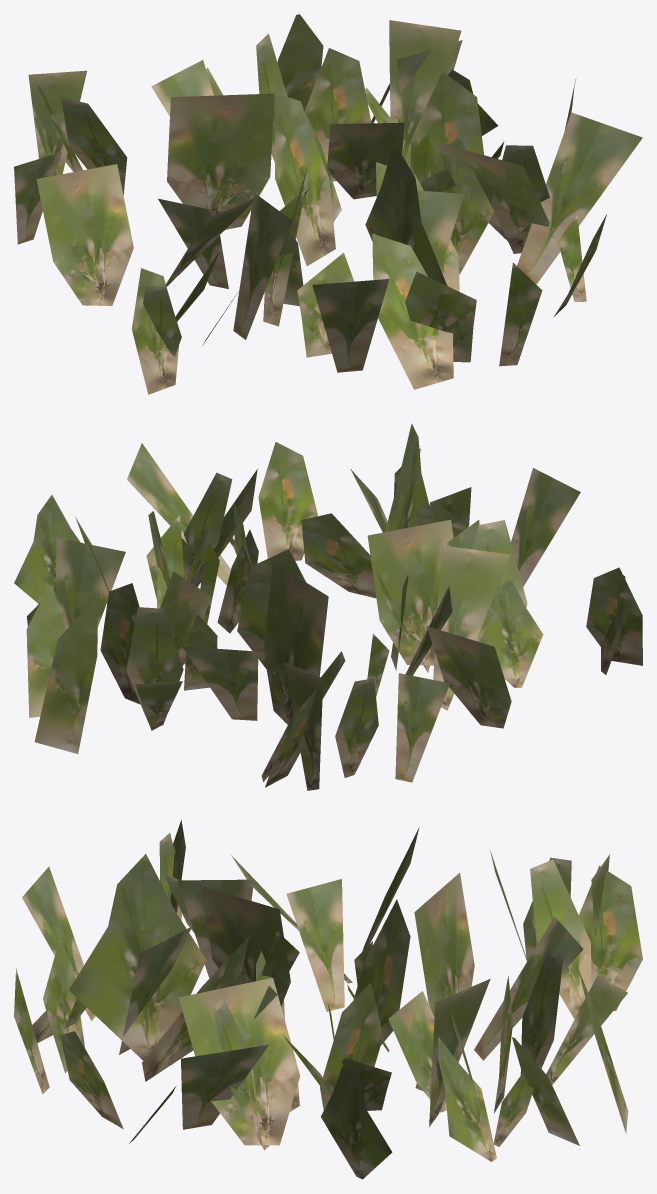
The model's file is grass_2_1.FBX.
3 views of the same model, one above another, from view 1: azimuth 30°, elevation 25°; view 2: azimuth 150°, elevation 25°; view 3: azimuth 270°, elevation 25° (orthographic). The views are drawn at different scales.
Visible parts, largest first — view 1: grass_2_01; view 2: grass_2_01; view 3: grass_2_01.
Boxes of the visible parts, x1,y1,x2,y2 form: grass_2_01: [14, 14, 642, 394]; grass_2_01: [14, 423, 642, 790]; grass_2_01: [14, 820, 642, 1179].
Size of the model in its own units: 96.92 by 34.34 by 95.21.
Materials: 1 (1 with a texture image).
